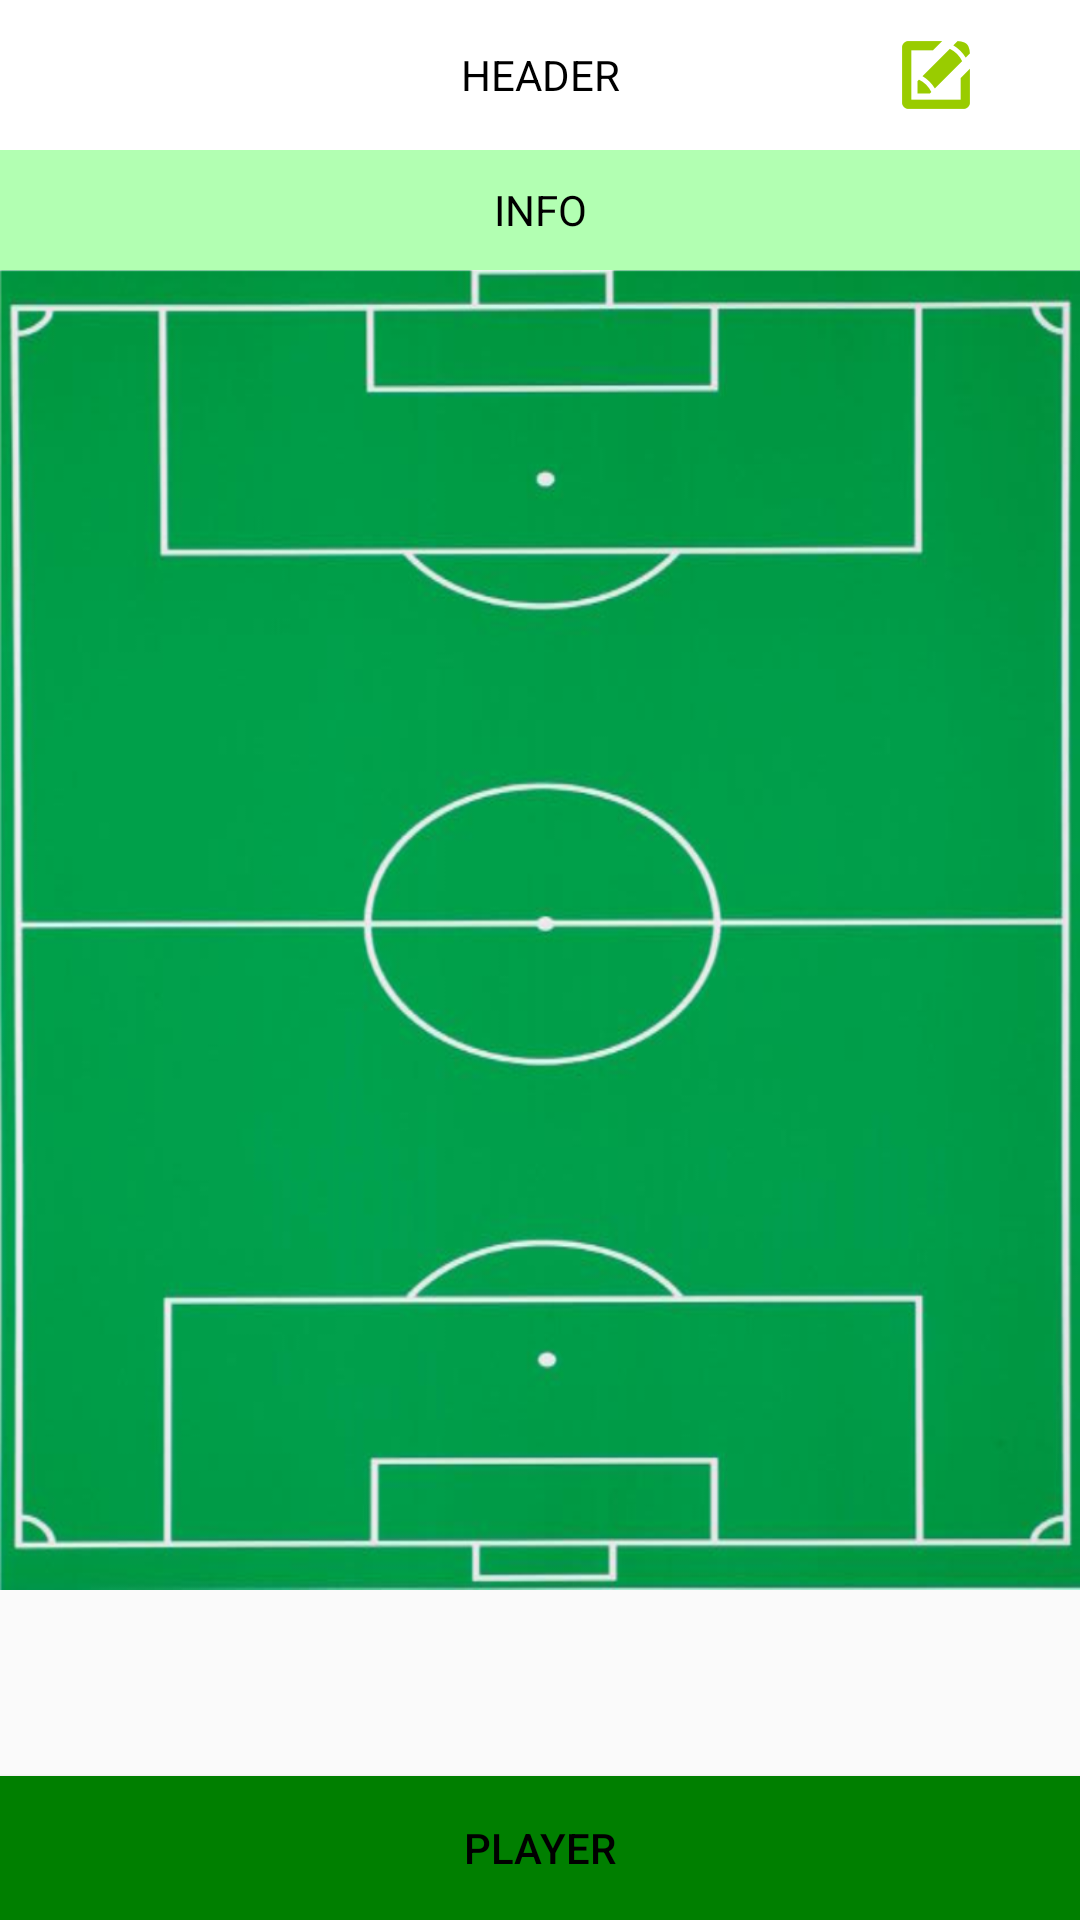

Screen size 1080*1920. Icon name, then its box in pixels as [x1, y1, x2, y2]:
edit: [902, 41, 970, 109]
